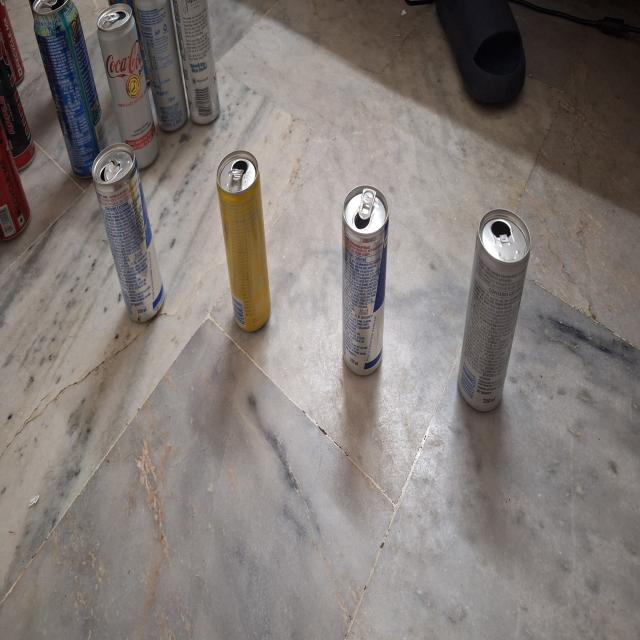Coca Cola: (0, 0, 35, 73)
Coca Cola Plus: (97, 9, 159, 167)
Coca Cola Zero: (0, 130, 39, 223)
Hell Apple: (0, 48, 40, 165)
Pepsi Retro: (137, 0, 189, 128)
Redbul: (338, 186, 389, 386)
Redbull DanceYourStyle: (90, 150, 166, 336)
Redbull Yellow Edition: (214, 151, 279, 335)
White Monster: (460, 204, 528, 413), (177, 0, 223, 131)
